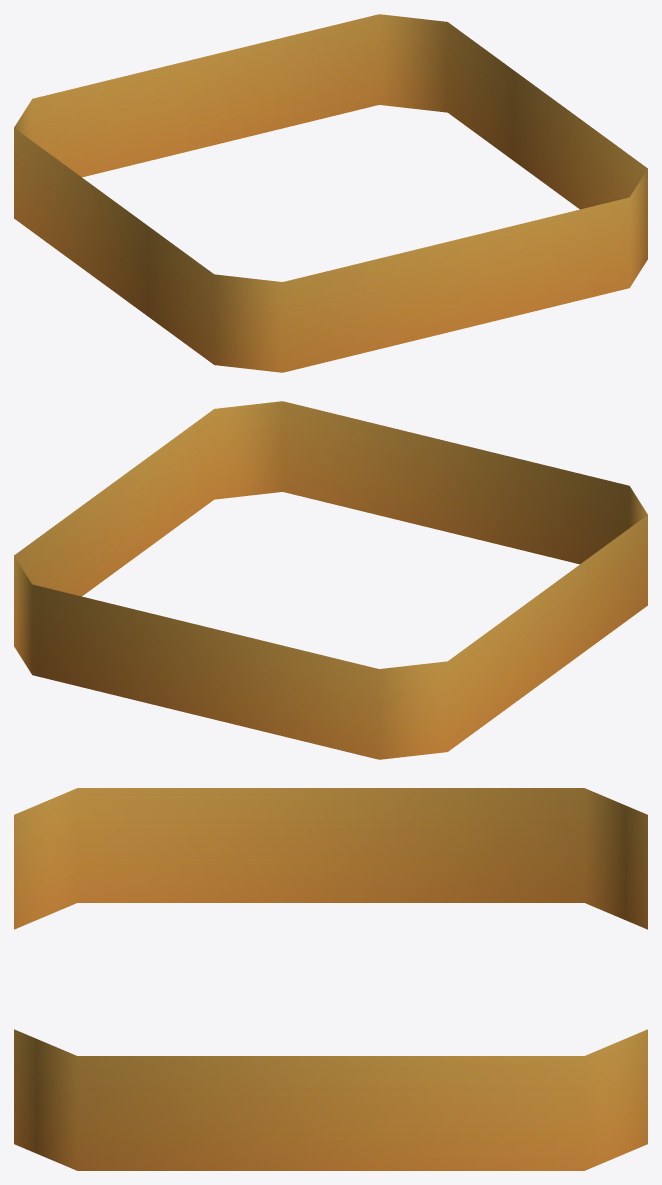
The model's file is kenney-tower-defense-selection-b.glb.
3 renders of one model, top to bottom at view 1: azimuth 30°, elevation 25°; view 2: azimuth 150°, elevation 25°; view 3: azimuth 270°, elevation 25°, orthographic. The views are drawn at different scales.
Visible parts, largest first — view 1: selection-b; view 2: selection-b; view 3: selection-b.
Boxes of the visible parts, x1=… form: selection-b: x1=14, y1=14, x2=647, y2=372; selection-b: x1=14, y1=401, x2=647, y2=759; selection-b: x1=14, y1=788, x2=647, y2=1170.
Bounding box in the file's own units: 1 × 0.2 × 1.
1 material, 1 textured.
